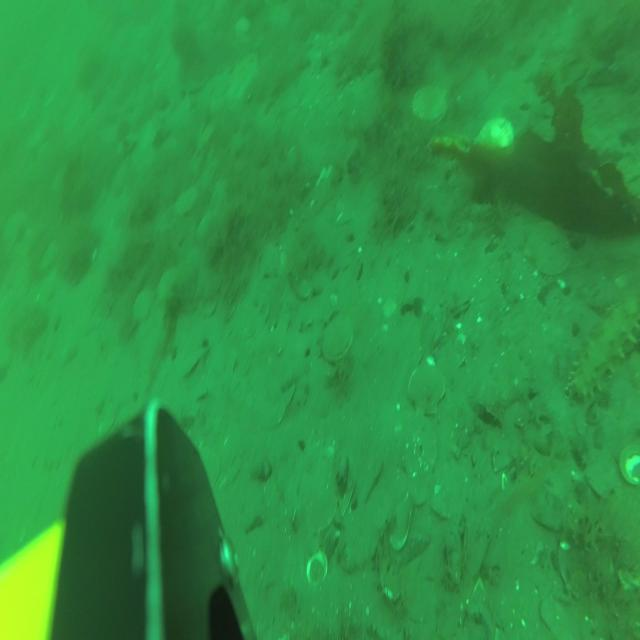scallop: (340, 72, 390, 135), (527, 220, 572, 278), (396, 420, 437, 482), (432, 458, 470, 519), (408, 364, 447, 421), (585, 442, 617, 506), (474, 111, 514, 157), (411, 83, 448, 126), (306, 484, 337, 534), (323, 316, 352, 365), (229, 60, 258, 103), (442, 287, 470, 322), (133, 288, 155, 326), (174, 188, 198, 222), (260, 245, 284, 279), (235, 14, 252, 40), (298, 275, 314, 298)
